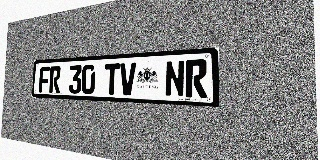0: (81, 64, 95, 94)
3: (69, 65, 82, 94)
F: (39, 66, 50, 93)
N: (165, 60, 185, 97)
R: (185, 59, 207, 98), (49, 66, 61, 93)
T: (104, 63, 120, 95)
V: (119, 62, 136, 96)
